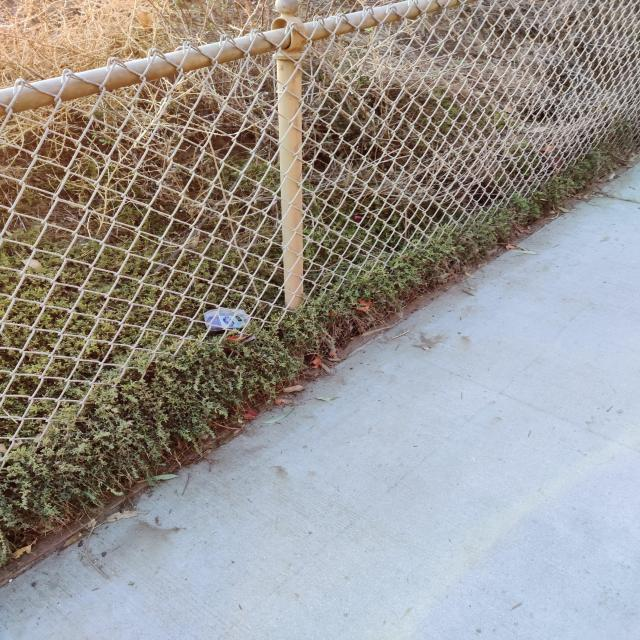litter: (201, 303, 257, 335)
